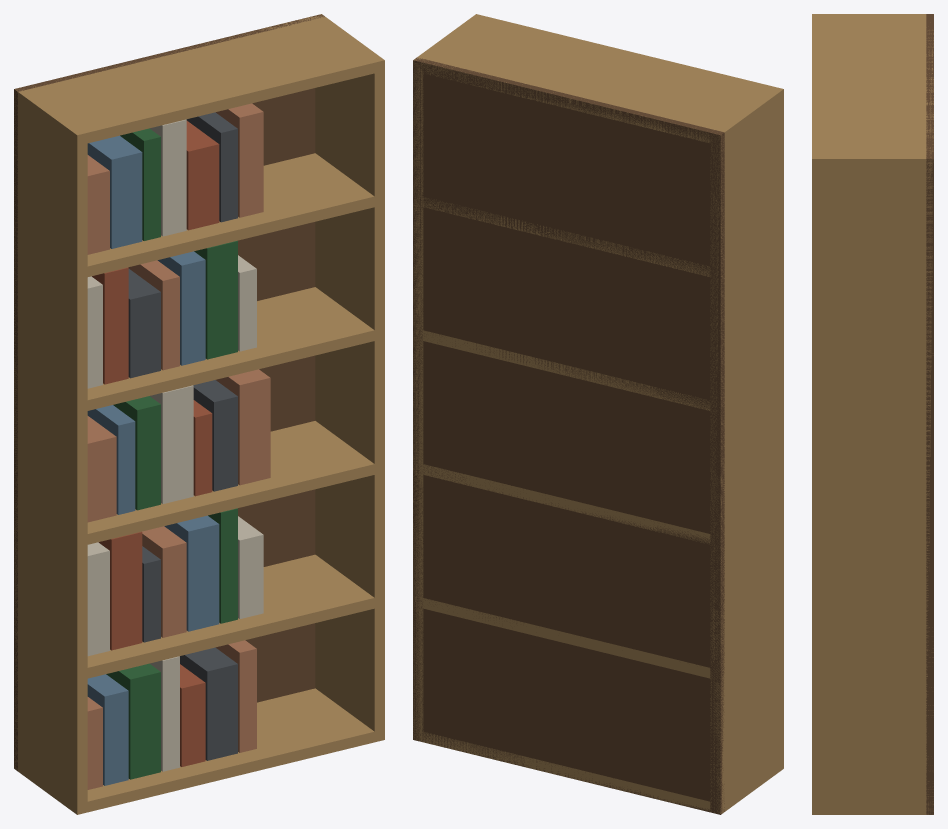
The model's file is bookcase.glb.
The picture shows the model from 3 angles, left to right: view 1: azimuth 30°, elevation 25°; view 2: azimuth 150°, elevation 25°; view 3: azimuth 270°, elevation 25°; orthographic projection. The views are drawn at different scales.
Visible parts, largest first — view 1: bookcase; view 2: bookcase; view 3: bookcase.
Part boxes in pixels (x1=…): bookcase: x1=14, y1=14, x2=384, y2=814; bookcase: x1=413, y1=14, x2=783, y2=814; bookcase: x1=812, y1=14, x2=933, y2=814.
Bounding box in the file's own units: 0.9 × 1.9 × 0.32.
